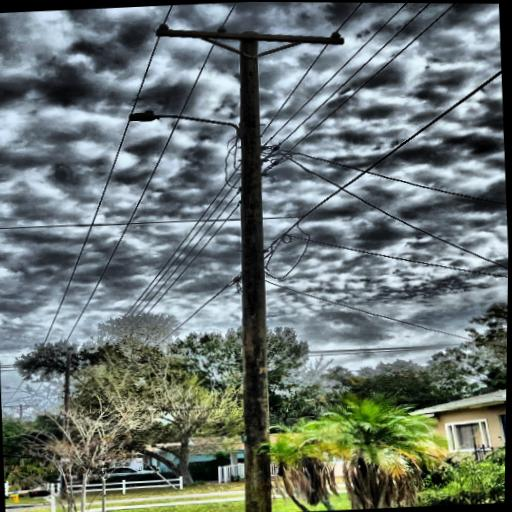insulator: (329, 31, 344, 40), (216, 24, 228, 34), (159, 23, 170, 32)
pole: (206, 20, 297, 512)
street light: (124, 104, 247, 147)
